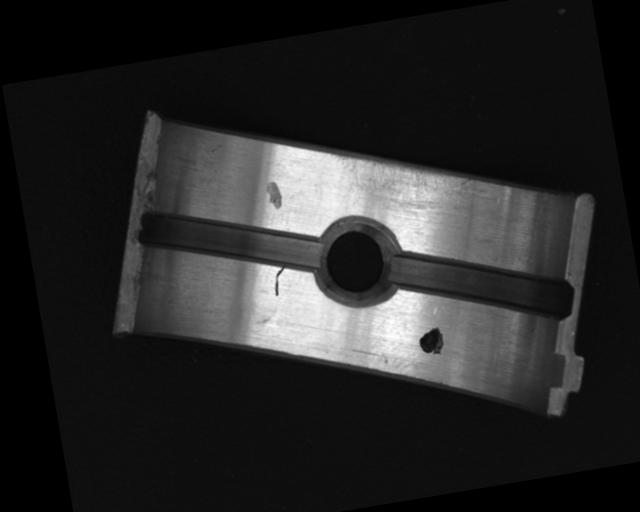blot: (416, 324, 447, 359)
bruise: (264, 178, 285, 213)
gap: (383, 229, 577, 344), (134, 184, 324, 296)
hole: (304, 210, 407, 310)
nick: (270, 266, 289, 297)
scratch: (328, 127, 490, 222)
